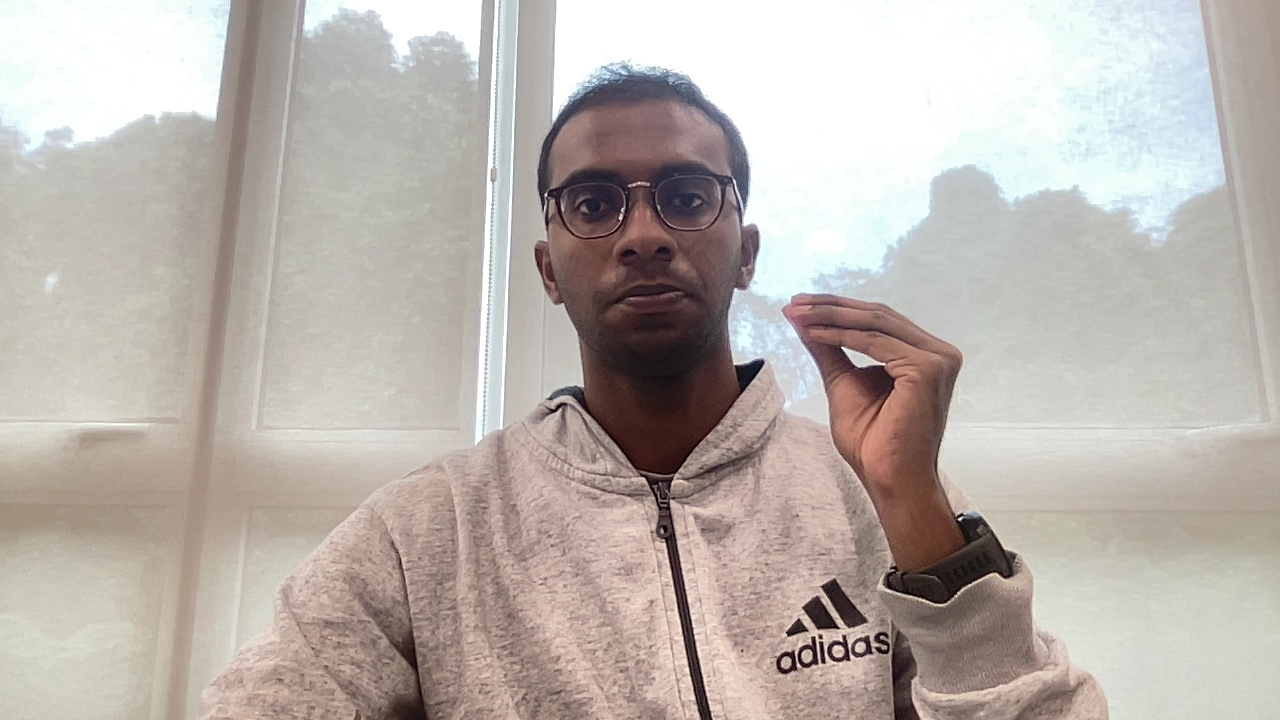eat: (776, 286, 972, 514)
